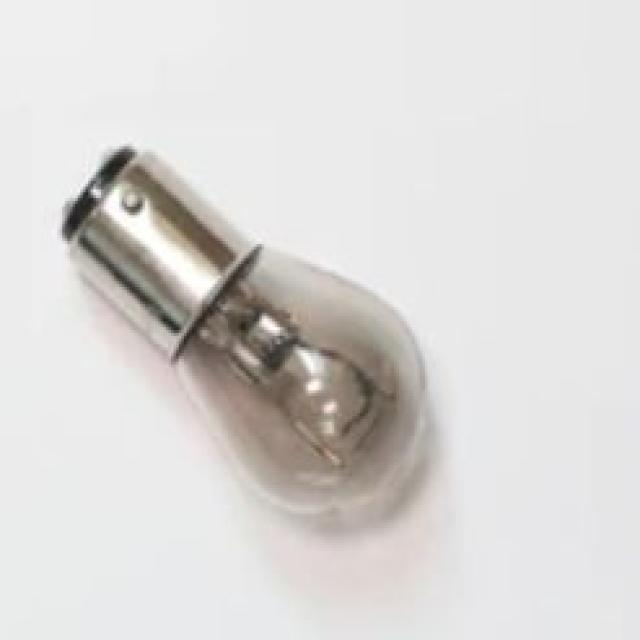electronic: (60, 141, 430, 522)
